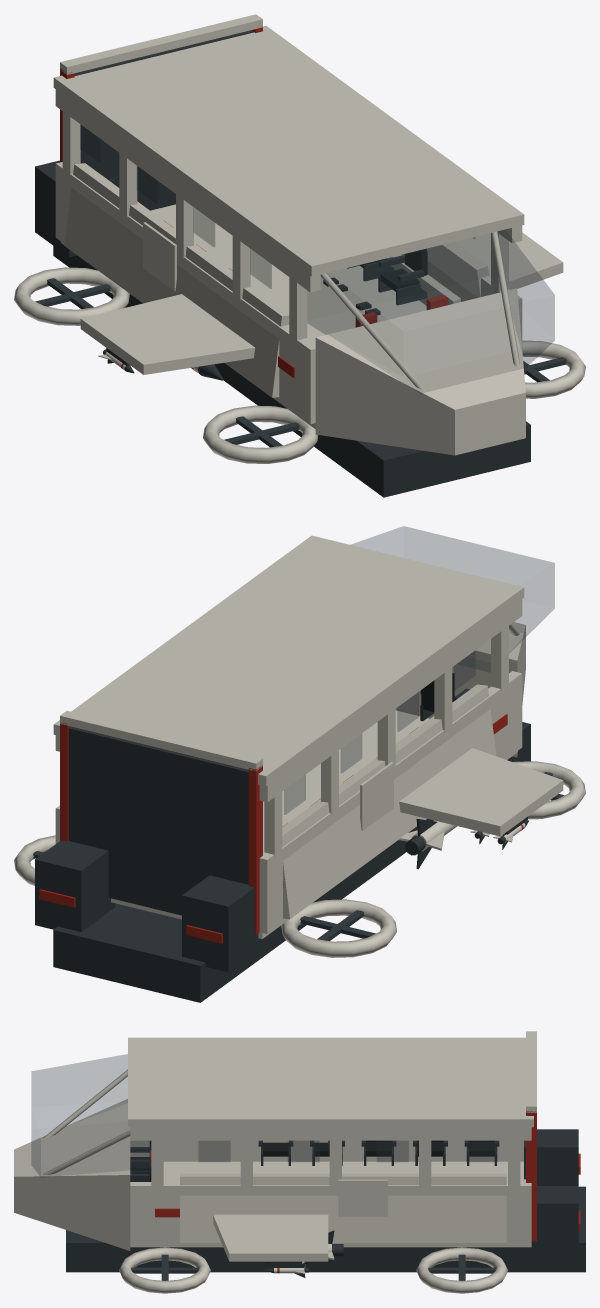
The picture shows the model from 3 angles, top to bottom: view 1: azimuth 30°, elevation 25°; view 2: azimuth 150°, elevation 25°; view 3: azimuth 270°, elevation 25°; orthographic projection. The views are drawn at different scales.
Visible parts, largest first — view 1: hover-transport-painted, transport-roof-painted, hover-transport-glazing, transport-ramp-painted, crew-seating-batch-painted, rotor-lift--1-2.9-fleet-machine, rotor-lift--1--3.1-fleet-machine; view 2: hover-transport-painted, transport-roof-painted, transport-ramp-painted, hover-transport-glazing, store-hover-large--1-painted, rotor-lift--1--3.1-fleet-machine, crew-seating-batch-painted; view 3: hover-transport-painted, transport-roof-painted, hover-transport-glazing, crew-seating-batch-painted, rotor-lift-1--3.1-fleet-machine, rotor-lift-1-2.9-fleet-machine, store-hover-large-1-painted.
Boxes of the visible parts, x1,y1,x2,y2 form: hover-transport-painted: [14, 14, 585, 497]; transport-roof-painted: [53, 25, 524, 341]; hover-transport-glazing: [80, 124, 554, 394]; transport-ramp-painted: [74, 30, 253, 210]; crew-seating-batch-painted: [98, 172, 448, 327]; rotor-lift--1-2.9-fleet-machine: [224, 416, 299, 447]; rotor-lift--1--3.1-fleet-machine: [35, 278, 110, 308]; hover-transport-painted: [14, 622, 585, 1002]; transport-roof-painted: [53, 535, 524, 856]; transport-ramp-painted: [68, 726, 248, 915]; hover-transport-glazing: [284, 526, 554, 814]; store-hover-large--1-painted: [399, 819, 457, 869]; rotor-lift--1--3.1-fleet-machine: [300, 910, 375, 940]; crew-seating-batch-painted: [282, 673, 469, 826]; hover-transport-painted: [14, 1031, 585, 1293]; transport-roof-painted: [128, 1037, 533, 1187]; hover-transport-glazing: [31, 1054, 497, 1177]; crew-seating-batch-painted: [130, 1140, 499, 1181]; rotor-lift-1--3.1-fleet-machine: [428, 1254, 495, 1280]; rotor-lift-1-2.9-fleet-machine: [131, 1254, 198, 1280]; store-hover-large-1-painted: [315, 1230, 343, 1269].
Size of the model in its own units: 42.11 by 21.33 by 63.16.
